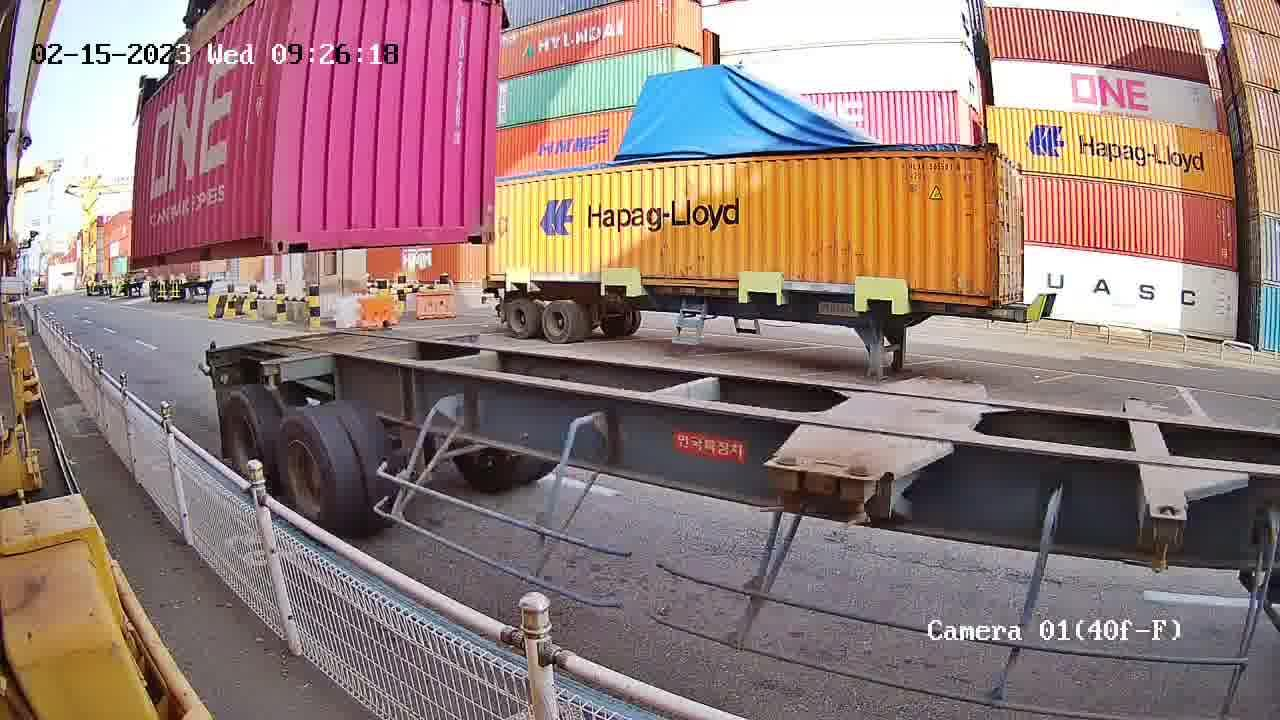Hole_L: (270, 205, 321, 253)
Hole_R: (453, 197, 495, 241), (240, 210, 270, 258)
Tire: (273, 411, 339, 527), (219, 394, 274, 491)
